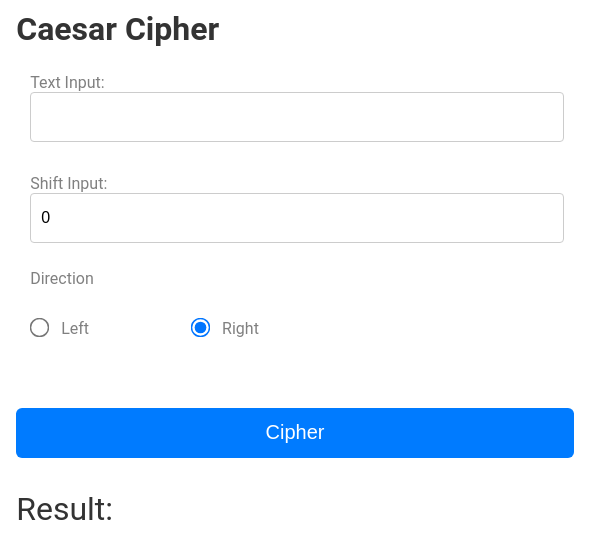
Scenario: CaesarCipher component › encrypts text using the Caesar Cipher with the right direction
The width and height of the screenshot is (591, 544).
Type "HELLO" into the field labelled "Text Input:" at (297, 117), box [30,92,564,142]
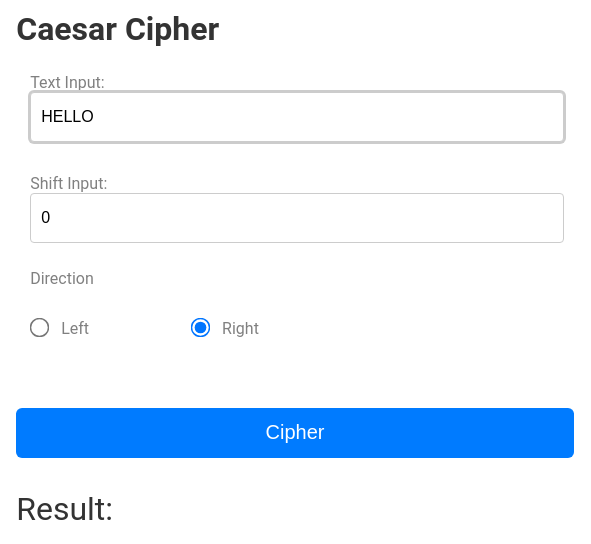
Type "1" into the number field labelled "Shift Input:" at (297, 218), box [30,193,564,243]
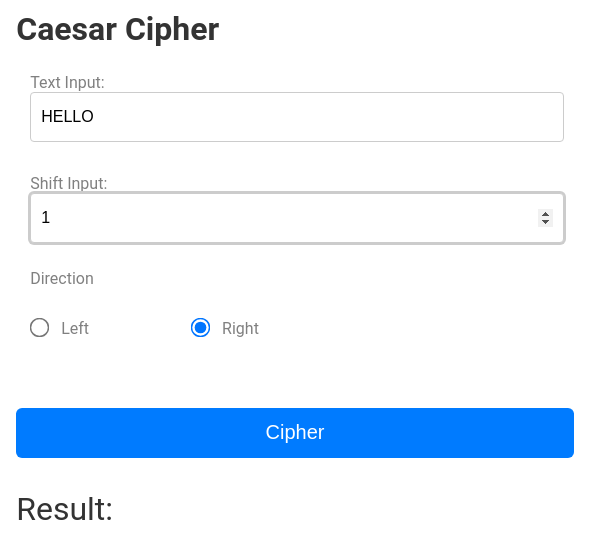
Click the radio button labelled "Right" at (201, 327), box [191,318,210,337]
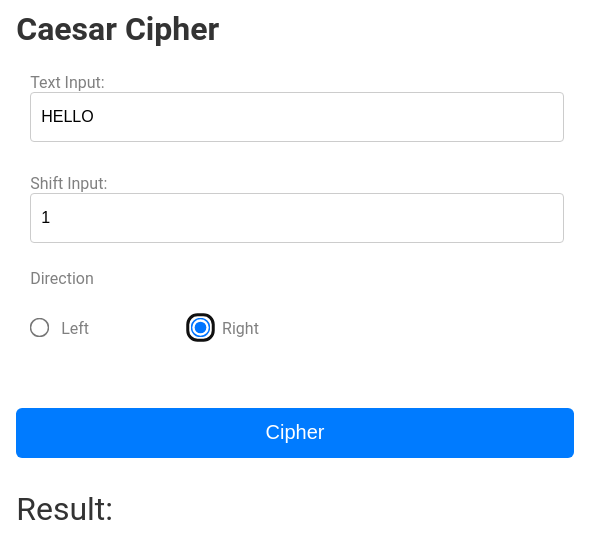
Click the button "Cipher" at (295, 433), box [16,408,574,458]
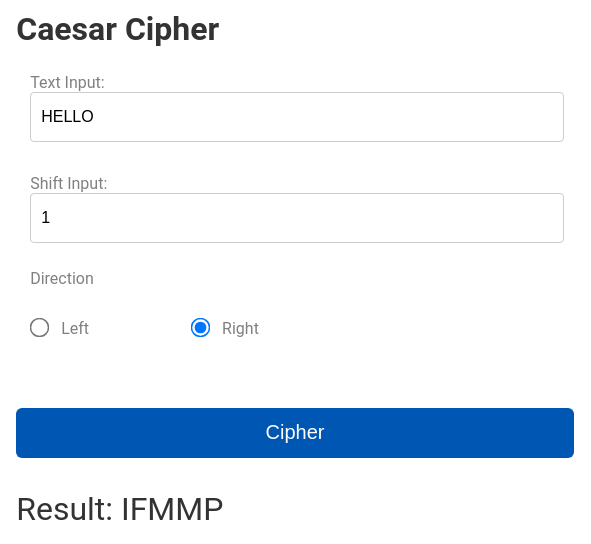
Expected: the text "Result: IFMMP" is shown, [16,490,223,528]
